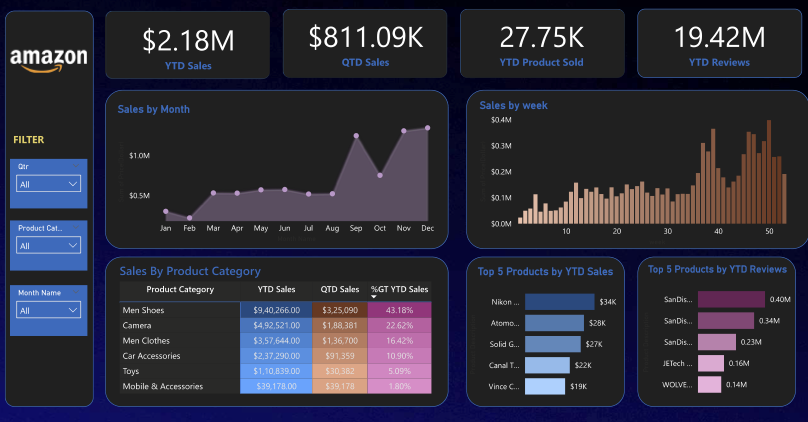

What the dashboard file says about the page in this screenshot:
{"tool":"powerbi","page":{"name":"Page 1","canvas":[1280,720],"ordinal":0},"visuals":[{"type":"shape","box":[168,70.3,260.2,108],"z":0,"group":"g1"},{"type":"shape","box":[168,195.5,542.4,250.5],"z":0},{"type":"shape","box":[9.6,0,1258.3,49.6],"z":1000},{"type":"card","fields":{"Values":["Amazon_Data.YTD Sales"]},"box":[185.9,73,227.1,104.6],"z":1000,"group":"g1"},{"type":"shape","box":[447.9,67.5,260.2,108.8],"z":2000,"group":"g1"},{"type":"textbox","box":[309.7,0,660.8,49.6],"z":2000},{"type":"shape","box":[727.8,67.5,260.2,108.8],"z":3000,"group":"g1"},{"type":"shape","box":[9.6,70.2,140.4,625],"z":3000},{"type":"card","fields":{"Values":["Amazon_Data.QTD Sales"]},"box":[465.4,67.5,227.1,104.6],"z":4000,"group":"g1"},{"type":"shape","box":[1007.7,67.5,260.2,108.8],"z":4000},{"type":"card","fields":{"Values":["Amazon_Data.YTD Product Sold"]},"box":[743.4,67.5,227.1,104.6],"z":5000,"group":"g1"},{"type":"group","id":"g1","title":"Group 1","box":[168,67.5,1083.4,110.8],"z":5000},{"type":"card","fields":{"Values":["Amazon_Data.YTD Reviews"]},"box":[1024.3,67.5,227.1,104.6],"z":6000,"group":"g1"},{"type":"shape","box":[737.9,195.5,542.4,250.5],"z":6000},{"type":"areaChart","title":" Sales by Month ","fields":{"Category":["Calender Table.Month Name"],"Y":["Sum(Amazon_Data.Price(Dollar))"]},"box":[183.1,214.8,513.5,225.8],"z":7000},{"type":"columnChart","title":"Sales by week","fields":{"Category":["Calender Table.week"],"Y":["Sum(Amazon_Data.Price(Dollar))"]},"box":[754.4,209.3,513.5,236.8],"z":8000},{"type":"shape","box":[168,458.4,542.4,236.8],"z":9000},{"type":"pivotTable","title":"Sales By Product Category","fields":{"Rows":["Amazon_Data.Product Category"],"Values":["Amazon_Data.YTD Sales1","Amazon_Data.QTD Sales","Amazon_Data.YTD Sales"]},"box":[185.8,466.7,528.6,228.5],"z":10000},{"type":"shape","box":[737.9,458.4,250.5,236.8],"z":11000},{"type":"shape","box":[1007.7,458.4,250.5,236.8],"z":12000},{"type":"clusteredBarChart","title":"Top 5 Products by YTD Sales","fields":{"Category":["Amazon_Data.Product Description"],"Y":["Amazon_Data.YTD Sales"]},"box":[737.9,470.8,250.5,224.4],"z":13000},{"type":"clusteredBarChart","title":"Top 5 Products by YTD Reviews","fields":{"Category":["Amazon_Data.Product Description"],"Y":["Amazon_Data.YTD Reviews"]},"box":[1011,468.1,247.3,224.4],"z":13001},{"type":"slicer","fields":{"Values":["Amazon_Data.Product Category"]},"box":[18.1,400.5,121.9,79.6],"z":13002},{"type":"slicer","fields":{"Values":["Calender Table.Qtr"]},"box":[18.1,304,121.9,78.4],"z":13003},{"type":"textbox","box":[18.1,257,71.2,37.4],"z":13004},{"type":"slicer","fields":{"Values":["Calender Table.Month Name"]},"box":[18.1,503.1,121.9,79.6],"z":13005},{"type":"image","box":[14.5,103.8,129.1,91.7],"z":13006}]}

Visuals, with their boxes on the page's 1280x720 design canvas (x1, y1, x2, y2). These are canvas units, not pixel positions in the 808x422 screenshot, which may show the page scaled, cropped or inside an application window:
shape: Rect(168, 70, 428, 178)
shape: Rect(168, 196, 710, 446)
shape: Rect(10, 0, 1268, 50)
card - Amazon_Data.YTD Sales: Rect(186, 73, 413, 178)
shape: Rect(448, 68, 708, 176)
textbox: Rect(310, 0, 970, 50)
shape: Rect(728, 68, 988, 176)
shape: Rect(10, 70, 150, 695)
card - Amazon_Data.QTD Sales: Rect(465, 68, 692, 172)
shape: Rect(1008, 68, 1268, 176)
card - Amazon_Data.YTD Product Sold: Rect(743, 68, 970, 172)
"Group 1" group: Rect(168, 68, 1251, 178)
card - Amazon_Data.YTD Reviews: Rect(1024, 68, 1251, 172)
shape: Rect(738, 196, 1280, 446)
" Sales by Month " areaChart: Rect(183, 215, 697, 441)
"Sales by week" columnChart: Rect(754, 209, 1268, 446)
shape: Rect(168, 458, 710, 695)
"Sales By Product Category" pivotTable: Rect(186, 467, 714, 695)
shape: Rect(738, 458, 988, 695)
shape: Rect(1008, 458, 1258, 695)
"Top 5 Products by YTD Sales" clusteredBarChart: Rect(738, 471, 988, 695)
"Top 5 Products by YTD Reviews" clusteredBarChart: Rect(1011, 468, 1258, 692)
slicer - Amazon_Data.Product Category: Rect(18, 400, 140, 480)
slicer - Calender Table.Qtr: Rect(18, 304, 140, 382)
textbox: Rect(18, 257, 89, 294)
slicer - Calender Table.Month Name: Rect(18, 503, 140, 583)
image: Rect(14, 104, 144, 196)
